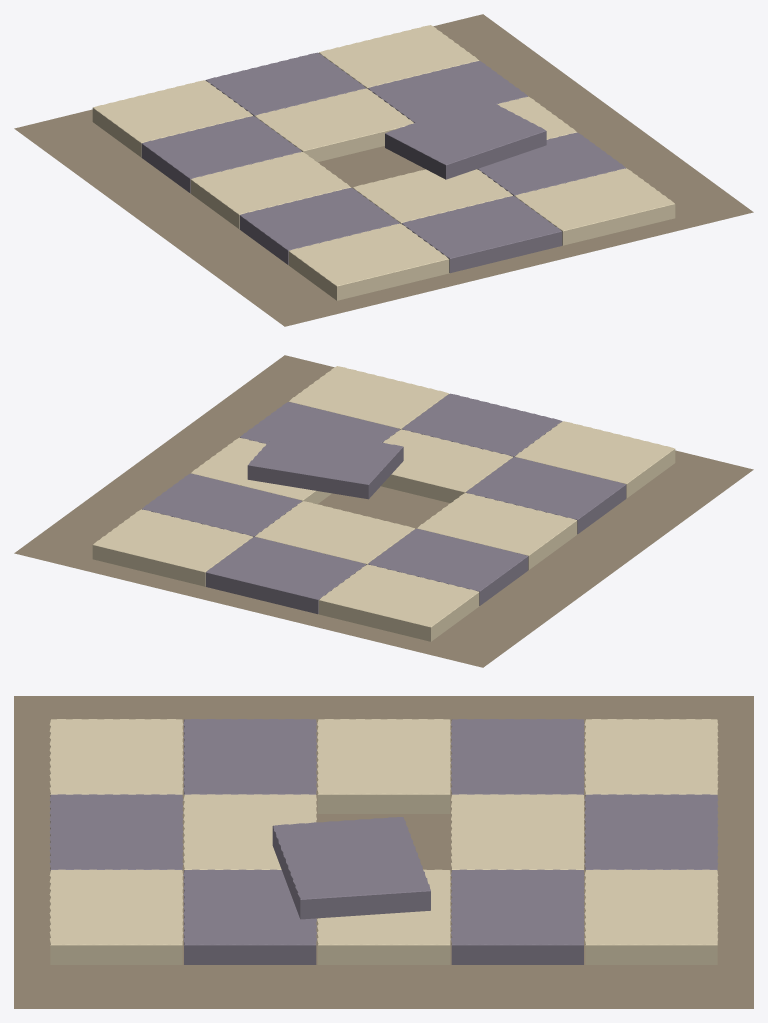
Rendered from terilgan.glb.
3 renders of one model, top to bottom at view 1: azimuth 30°, elevation 25°; view 2: azimuth 150°, elevation 25°; view 3: azimuth 270°, elevation 25°, orthographic. The views are drawn at different scales.
Parts seen in each view (by area): view 1: qum, t, t.007, t.001, t.002, t.010, t.009, t.012, t.003, t.006, t.013, t.014 (+4 smaller); view 2: qum, t.012, t.007, t.013, t.014, t.003, t, t.009, t.006, t.004, t.001, t.011 (+4 smaller); view 3: qum, t.007, t.006, t.011, t.002, t.014, t.005, t.003, t.009, t, t.001, t.010 (+4 smaller).
Part boxes in pixels (x1,y1,x2,y2): qum: (14, 14, 753, 326); t: (288, 223, 449, 300); t.007: (385, 99, 546, 179); t.001: (401, 196, 562, 273); t.002: (514, 168, 675, 245); t.010: (254, 88, 413, 162); t.009: (141, 116, 301, 193); t.012: (92, 80, 252, 157); t.003: (239, 187, 399, 264); t.006: (190, 152, 350, 228); t.013: (205, 52, 366, 116); t.014: (319, 25, 479, 88); qum: (14, 355, 753, 667); t.012: (318, 564, 479, 641); t.007: (247, 427, 403, 499); t.013: (205, 537, 366, 614); t.014: (92, 509, 253, 586); t.003: (466, 457, 626, 534); t: (515, 421, 675, 498); t.009: (368, 528, 528, 605); t.006: (417, 493, 577, 569); t.004: (381, 429, 513, 503); t.001: (401, 393, 562, 457); t.011: (142, 473, 302, 537); qum: (14, 696, 753, 1008); t.007: (272, 817, 430, 919); t.006: (317, 719, 450, 813); t.011: (451, 869, 584, 964); t.002: (49, 869, 183, 964); t.014: (584, 869, 718, 964); t.005: (183, 869, 316, 964); t.003: (183, 719, 316, 794); t.009: (451, 719, 584, 794); t: (49, 719, 183, 794); t.001: (49, 794, 183, 870); t.010: (451, 794, 584, 870).
Size of the model in its own units: 1.66 by 0.102 by 1.66.
